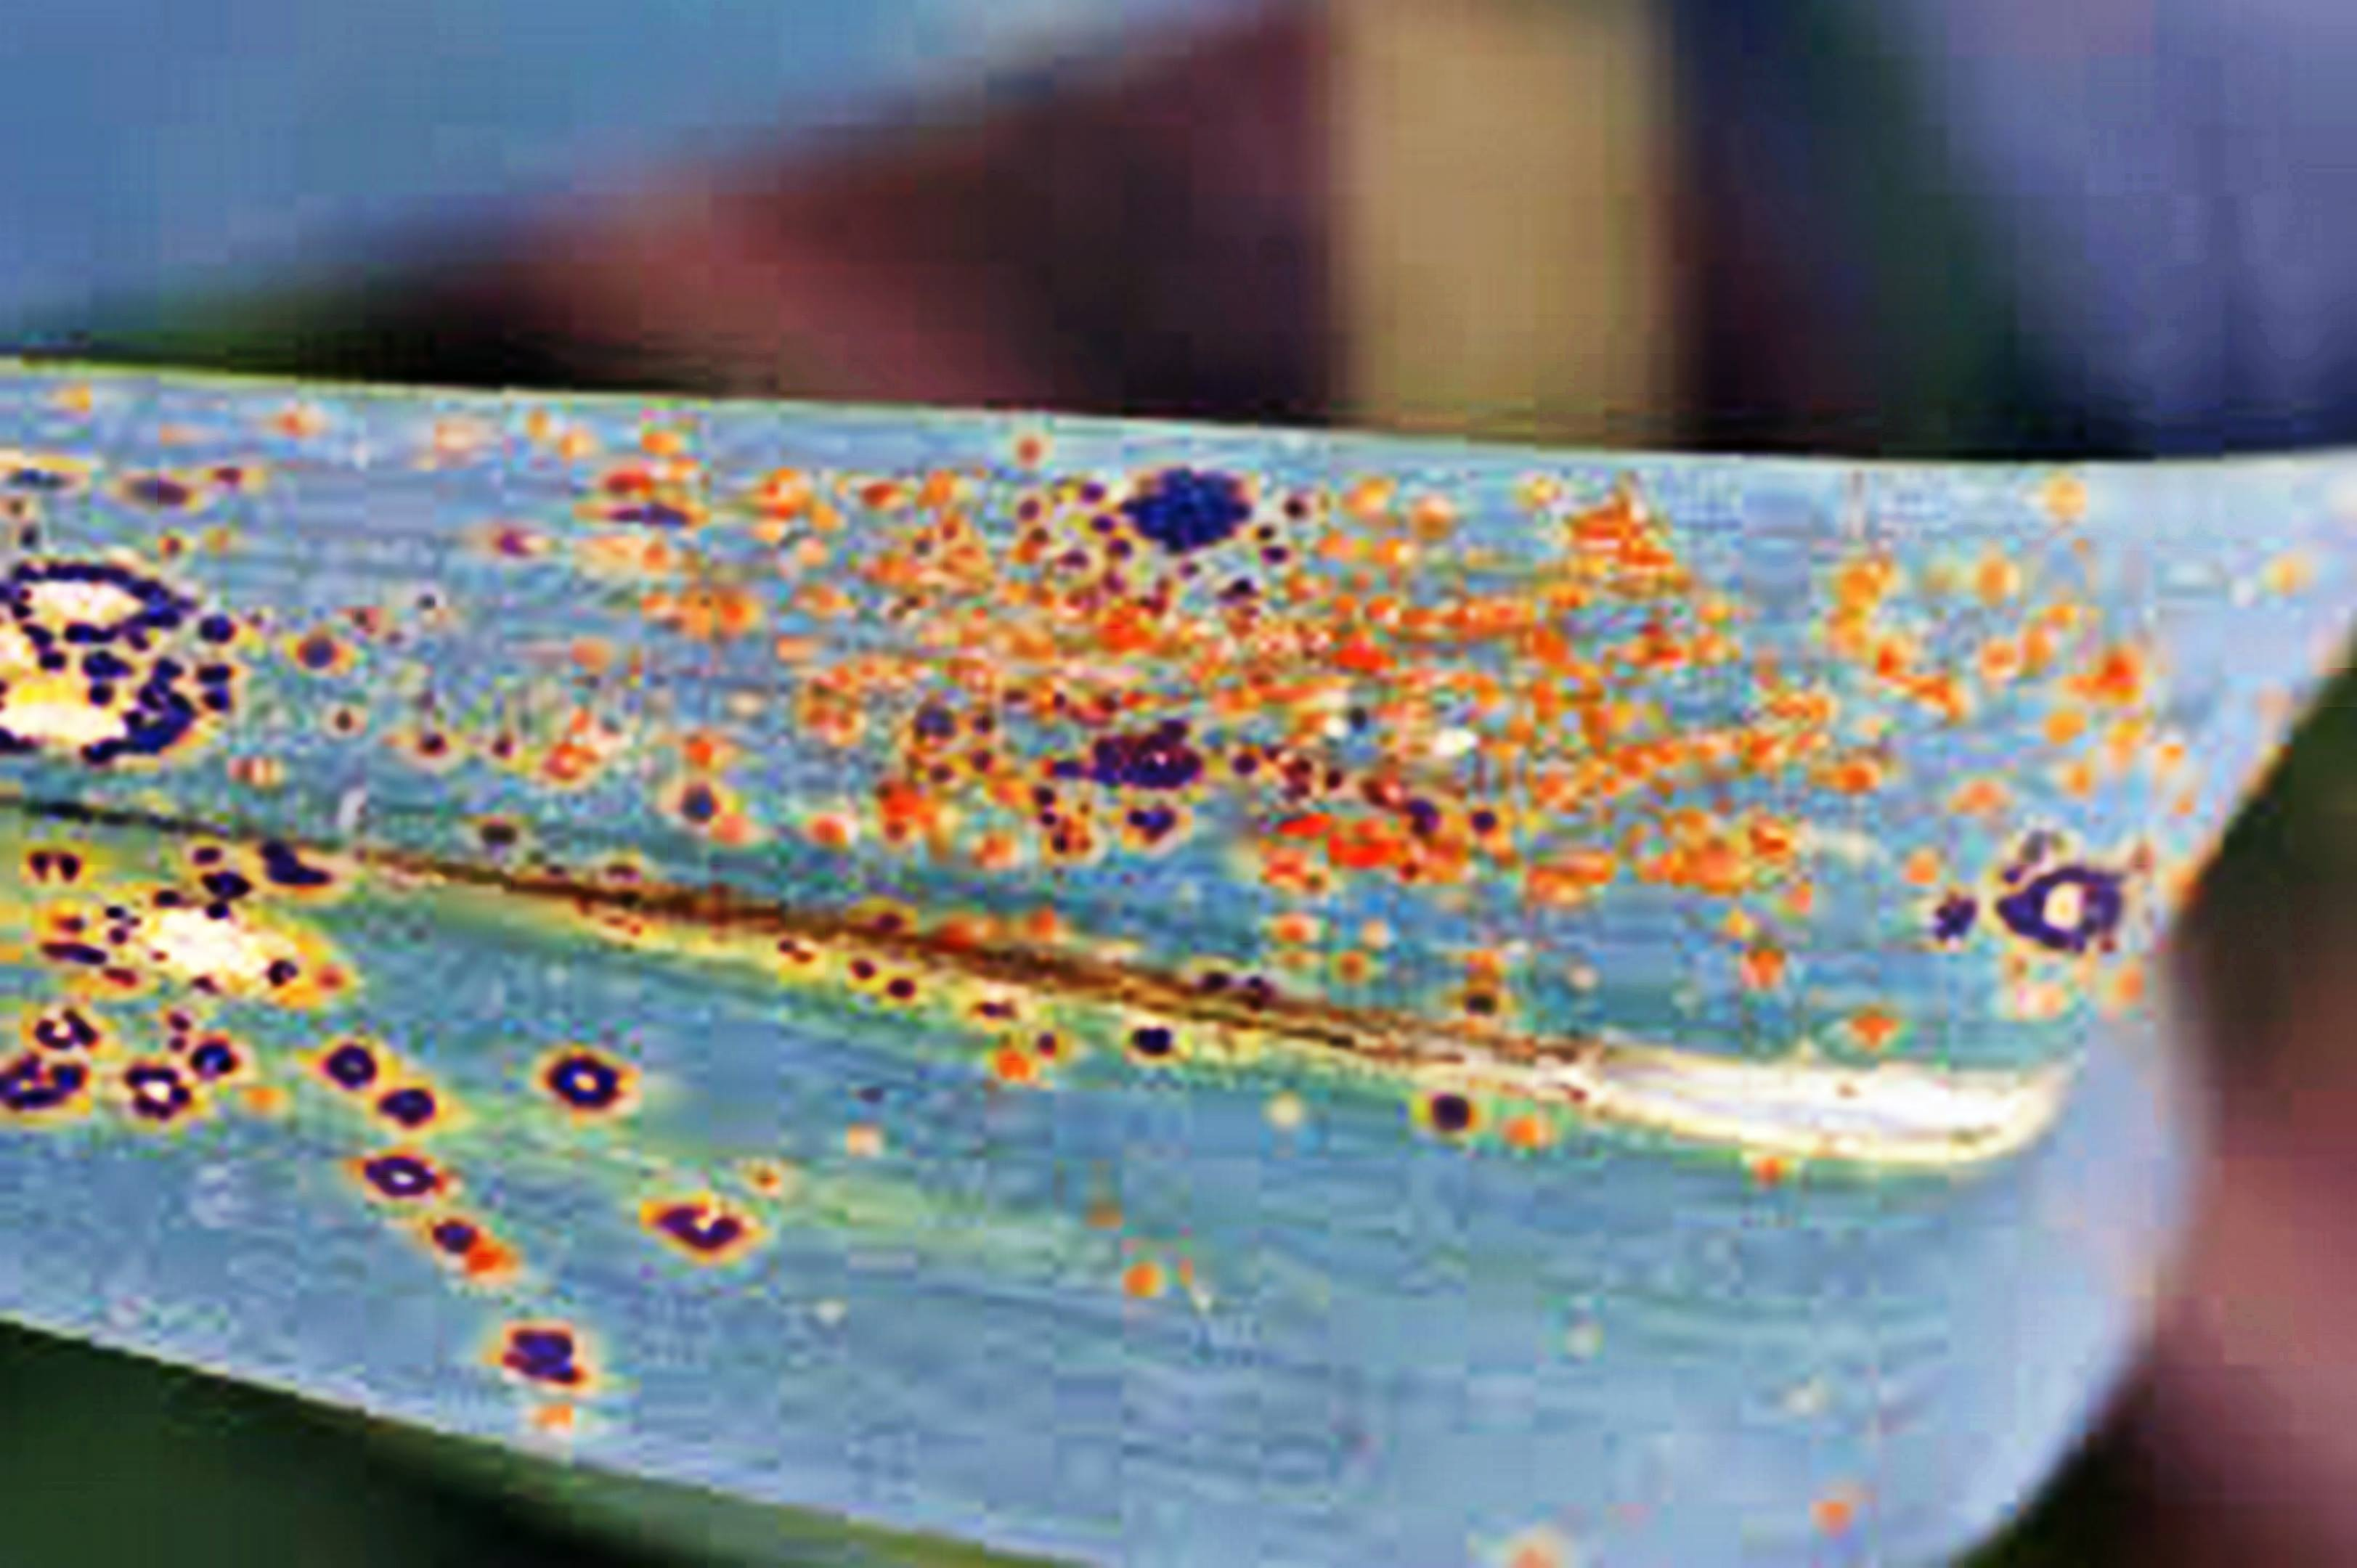Leaf Rust: (65, 353, 1977, 1321)
